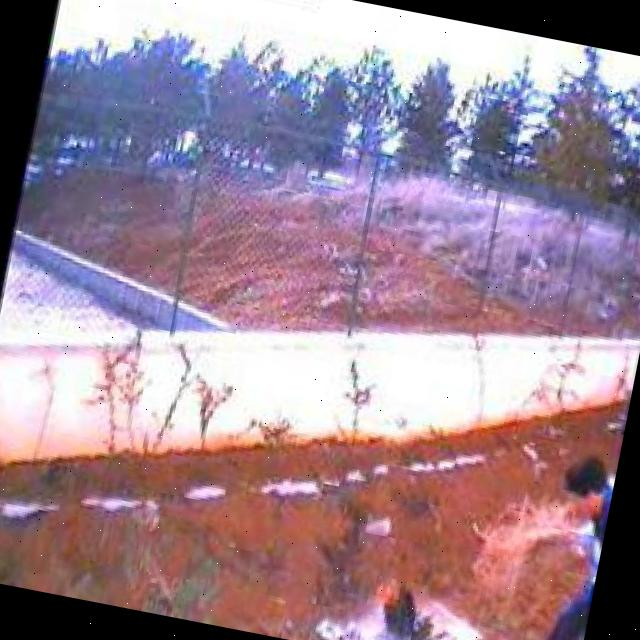fire: (365, 572, 427, 636)
